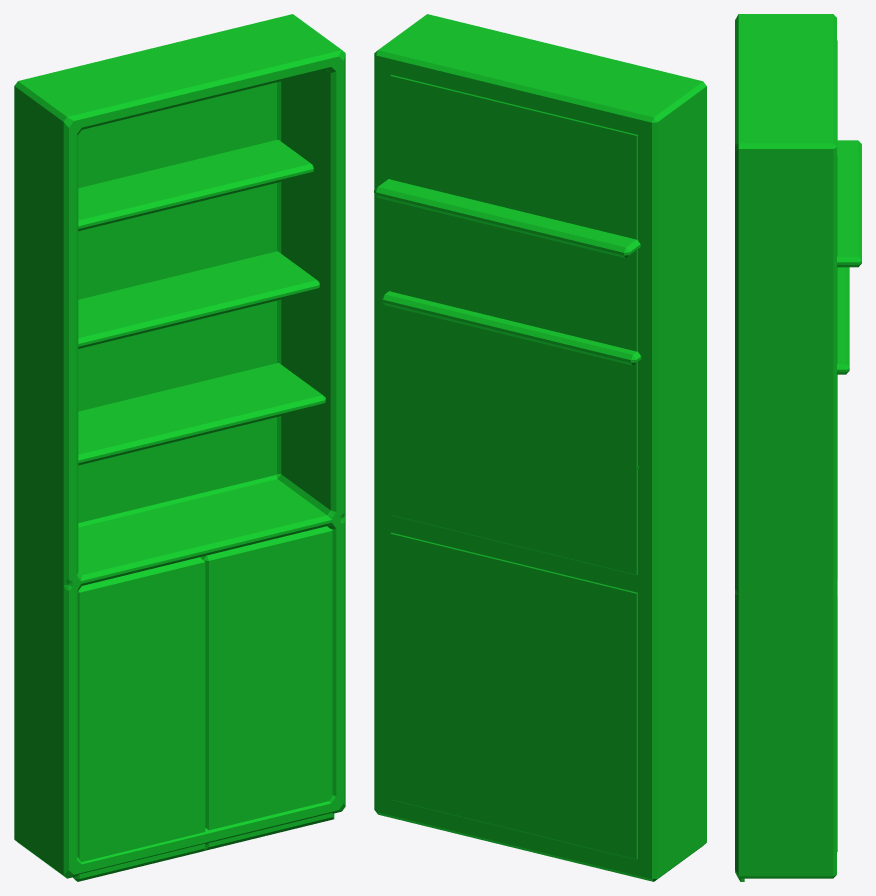
Rendered from room_escape_new_guimen.obj.
The picture shows the model from 3 angles, left to right: view 1: azimuth 30°, elevation 25°; view 2: azimuth 150°, elevation 25°; view 3: azimuth 270°, elevation 25°; orthographic projection. The views are drawn at different scales.
Visible parts, largest first — view 1: Cylinder.002_light_green; view 2: Cylinder.002_light_green; view 3: Cylinder.002_light_green.
Boxes of the visible parts, x1,y1,x2,y2 form: Cylinder.002_light_green: [14, 14, 345, 881]; Cylinder.002_light_green: [374, 14, 706, 881]; Cylinder.002_light_green: [735, 14, 861, 881].
Bounding box in the file's own units: 1.23 × 3.2 × 0.4972.
